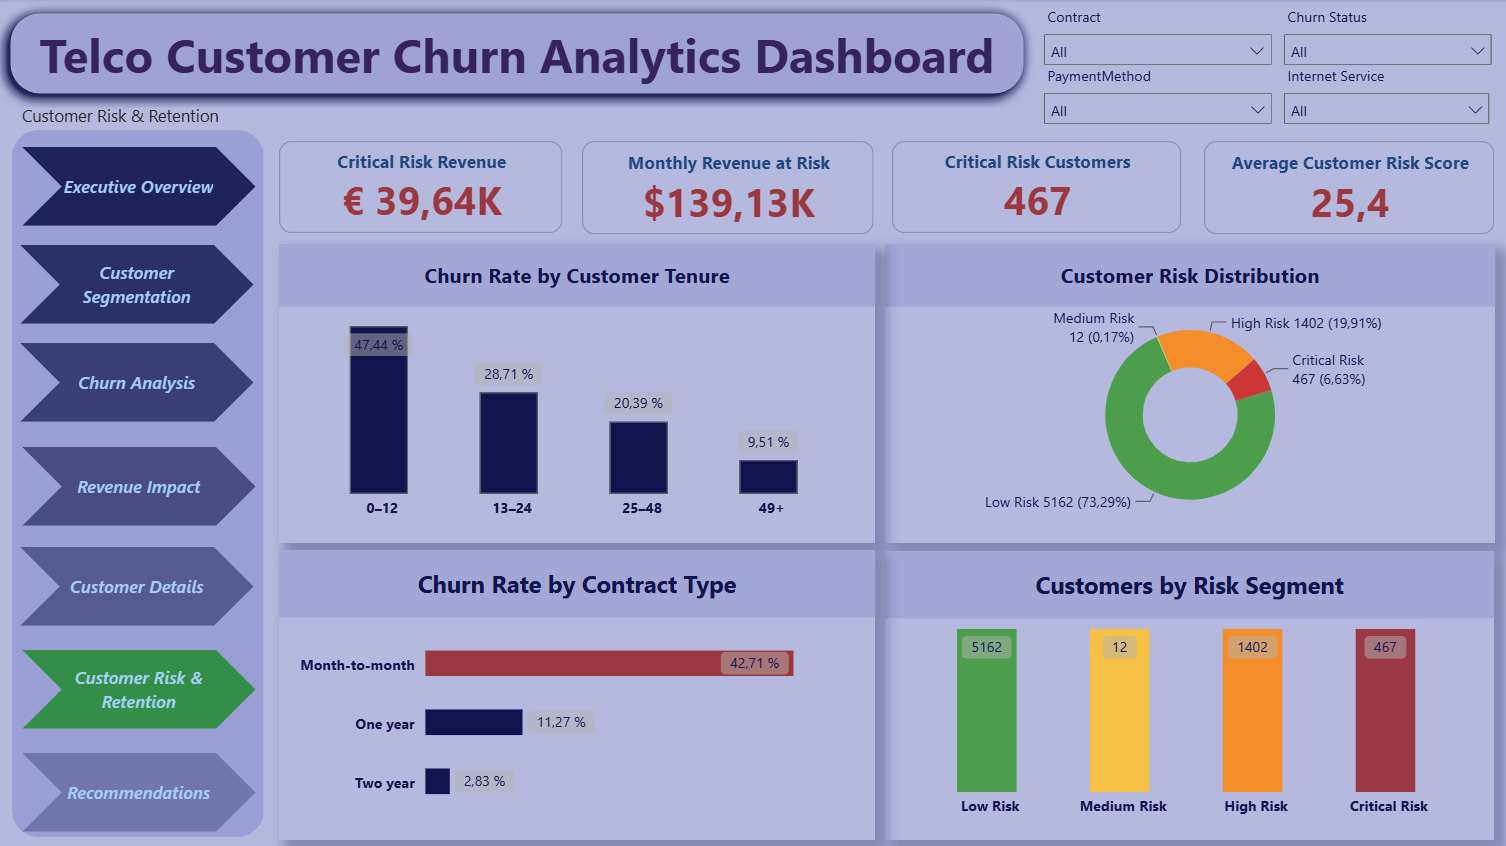

Layout of this report page (visuals, bound fields, positions):
{"tool":"powerbi","page":{"name":"Customer Risk & Rentation","canvas":[1280,720],"ordinal":5},"visuals":[{"type":"shape","title":"Telco Customer Churn Analytics Dashboard","box":[0,0,882.6,92.2],"z":0},{"type":"bookmarkNavigator","box":[585.5,46.3,14.5,4.3],"z":1000},{"type":"shape","box":[13.6,111,213.5,598.9],"z":1000,"group":"g2"},{"type":"donutChart","fields":{"Y":["_Measures.Monthly Revenue at Risk by Risk Segment"]},"box":[752.9,103.9,259.2,98.1],"z":2000},{"type":"shape","box":[20.1,208.8,197.9,66.8],"z":2000,"group":"g3"},{"type":"slicer","title":"Payment Method","fields":{"Values":["dim DimContract.Contract"]},"box":[882.6,6.9,202.6,55.2],"z":3000},{"type":"cardVisual","fields":{"Data":["Risk Category.Average Customer Risk Score"]},"box":[1023.1,119.9,246.2,79.7],"z":4000},{"type":"group","id":"g1","title":"Group 1","box":[20.1,125.7,199.5,580.4],"z":4000,"group":"g2"},{"type":"shape","box":[20.1,291.9,197.9,66.8],"z":4000,"group":"g3"},{"type":"textbox","box":[22,88.9,215.5,22.4],"z":5000},{"type":"slicer","title":"Payment Method","fields":{"Values":["fact FactCustomerChurn.Churn Status"]},"box":[1086.1,6.9,186.2,54.3],"z":6000},{"type":"shape","box":[21.7,379.5,197.9,66.8],"z":6000,"group":"g3"},{"type":"slicer","title":"Payment Method","fields":{"Values":["dim DimService.InternetService"]},"box":[1086.1,56.9,184.5,54.3],"z":7000},{"type":"slicer","title":"Payment Method","fields":{"Values":["dim DimPayment.PaymentMethod"]},"box":[882.6,56.9,203.4,54.3],"z":8000},{"type":"cardVisual","fields":{"Data":["_Measures.Critical Risk Revenue"]},"box":[239.7,120.3,240.6,79],"z":9000},{"type":"cardVisual","fields":{"Data":["_Measures.Critical Risk Customers"]},"box":[759.4,120.3,245.2,79],"z":10000},{"type":"shape","box":[20.1,464.1,197.9,66.8],"z":10000,"group":"g3"},{"type":"cardVisual","fields":{"Data":["_Measures.Monthly Revenue at Risk"]},"box":[496.8,119.9,247.9,79.7],"z":11000},{"type":"pieChart","title":"Customer Risk Distribution","fields":{"Category":["Risk Category.Risk Segment"],"Y":["_Measures.Customers by Risk Category"]},"box":[752.9,207.5,517,252.5],"z":12000},{"type":"shape","box":[21.7,639.3,197.9,66.8],"z":12000,"group":"g3"},{"type":"clusteredColumnChart","title":"Churn Rate by Customer Tenure","fields":{"Category":["dim DimCustomer.Tenure Group"],"Y":["_Measures.Churn Rate"]},"box":[239.7,207.5,505,252.5],"z":13000},{"type":"clusteredColumnChart","title":"Customers by Risk Segment","fields":{"Category":["Risk Category.Risk Segment"],"Y":["Risk Category.Customers by Risk Segment"]},"box":[752.9,467.4,516,245.2],"z":14000},{"type":"clusteredBarChart","title":"Churn Rate by Contract Type","fields":{"Category":["dim DimContract.Contract"],"Y":["_Measures.Churn Rate"]},"box":[239.7,466.5,505,246.1],"z":15000},{"type":"group","id":"g2","title":"Group 3","box":[13.6,111,213.5,598.9],"z":16000},{"type":"group","id":"g3","title":"Group 2","box":[20.1,125.7,199.5,580.4],"z":18001,"group":"g1"},{"type":"shape","box":[21.7,551.7,197.9,66.8],"z":19000,"group":"g3"},{"type":"shape","box":[21.7,125.7,197.9,66.8],"z":19500,"group":"g3"}]}

Visuals, with their boxes in screenshot pixels (x1, y1, x2, y2), scaled from the page's 1280x720 canvas onto the 1506x846 screenshot:
"Telco Customer Churn Analytics Dashboard" shape: rect(0, 0, 1038, 108)
bookmarkNavigator: rect(689, 54, 706, 59)
shape: rect(16, 130, 267, 834)
donutChart - _Measures.Monthly Revenue at Risk by Risk Segment: rect(886, 122, 1191, 237)
shape: rect(24, 245, 256, 324)
"Payment Method" slicer: rect(1038, 8, 1277, 73)
cardVisual - Risk Category.Average Customer Risk Score: rect(1204, 141, 1493, 235)
"Group 1" group: rect(24, 148, 258, 830)
shape: rect(24, 343, 256, 421)
textbox: rect(26, 104, 279, 131)
"Payment Method" slicer: rect(1278, 8, 1497, 72)
shape: rect(26, 446, 258, 524)
"Payment Method" slicer: rect(1278, 67, 1495, 131)
"Payment Method" slicer: rect(1038, 67, 1278, 131)
cardVisual - _Measures.Critical Risk Revenue: rect(282, 141, 565, 234)
cardVisual - _Measures.Critical Risk Customers: rect(893, 141, 1182, 234)
shape: rect(24, 545, 256, 624)
cardVisual - _Measures.Monthly Revenue at Risk: rect(585, 141, 876, 235)
"Customer Risk Distribution" pieChart: rect(886, 244, 1494, 540)
shape: rect(26, 751, 258, 830)
"Churn Rate by Customer Tenure" clusteredColumnChart: rect(282, 244, 876, 540)
"Customers by Risk Segment" clusteredColumnChart: rect(886, 549, 1493, 837)
"Churn Rate by Contract Type" clusteredBarChart: rect(282, 548, 876, 837)
"Group 3" group: rect(16, 130, 267, 834)
"Group 2" group: rect(24, 148, 258, 830)
shape: rect(26, 648, 258, 727)
shape: rect(26, 148, 258, 226)
